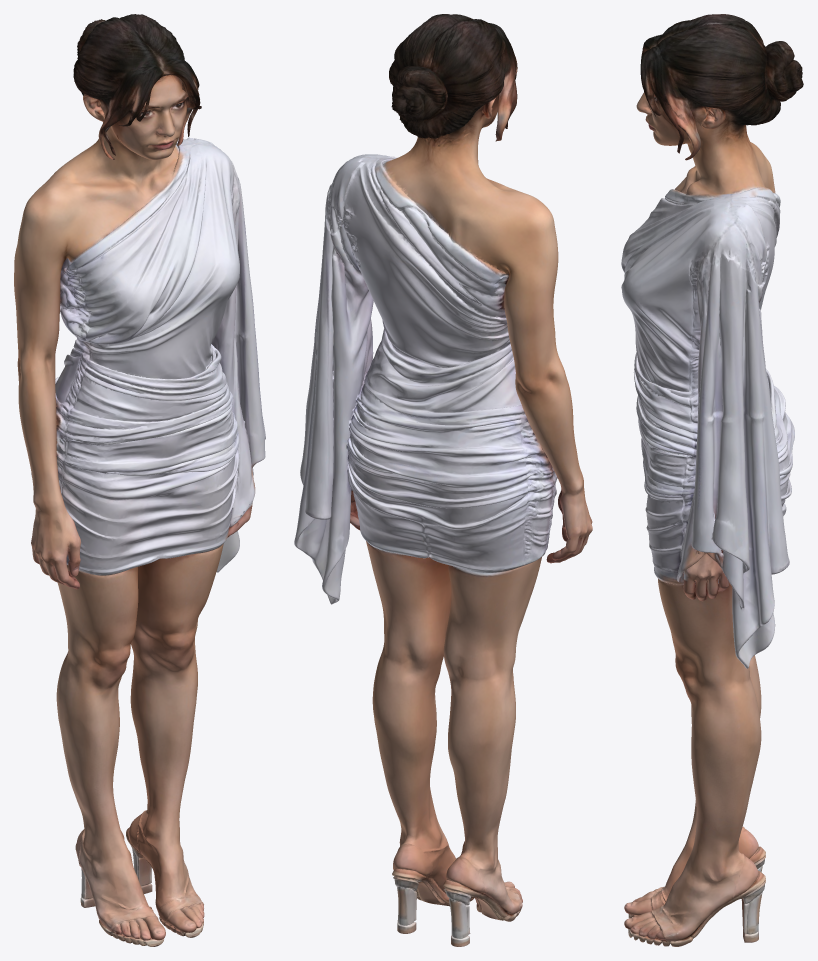
The model's file is white+draped+dress+3d+model.glb.
3 views of the same model, side by side, from view 1: azimuth 30°, elevation 25°; view 2: azimuth 150°, elevation 25°; view 3: azimuth 270°, elevation 25° (orthographic).
Visible parts, largest first — view 1: tripo_node_5f67485c-25a2-4963-828a-64d338ffd2e4; view 2: tripo_node_5f67485c-25a2-4963-828a-64d338ffd2e4; view 3: tripo_node_5f67485c-25a2-4963-828a-64d338ffd2e4.
Part boxes in pixels (box(x1,y1,x2,y2)): tripo_node_5f67485c-25a2-4963-828a-64d338ffd2e4: box(14, 14, 265, 946); tripo_node_5f67485c-25a2-4963-828a-64d338ffd2e4: box(294, 14, 592, 946); tripo_node_5f67485c-25a2-4963-828a-64d338ffd2e4: box(621, 14, 803, 946).
Size of the model in its own units: 0.2903 by 0.9788 by 0.1784.
1 material, 1 textured.
